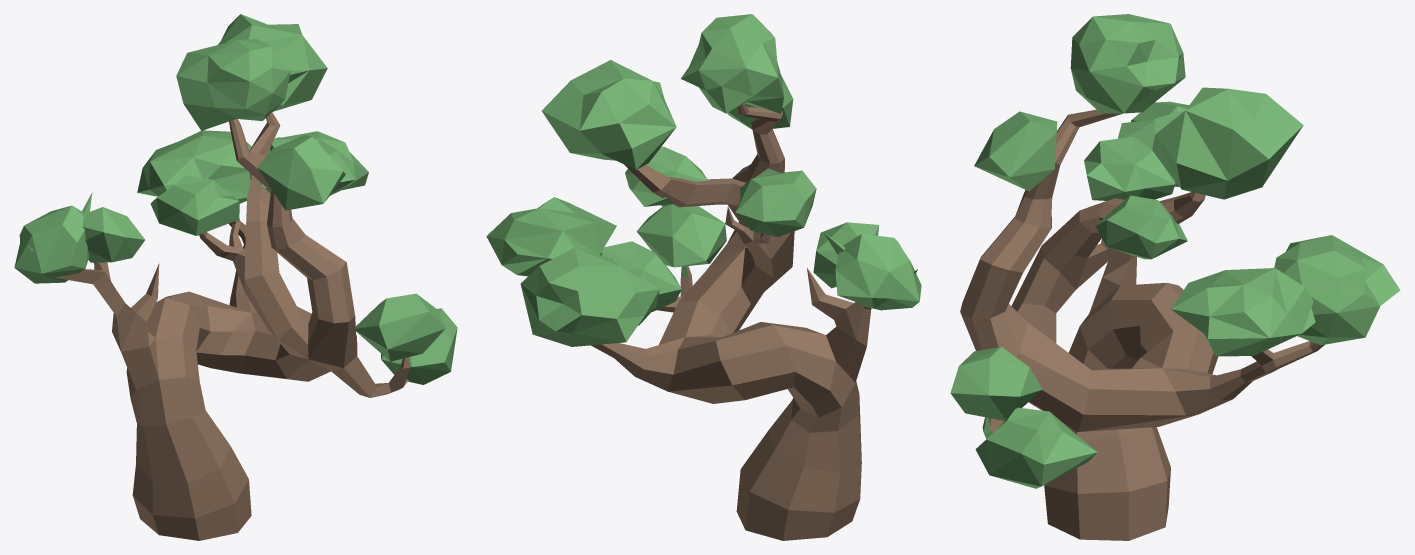
File: swamp_trees2.fbx
3 views of the same model, side by side, from view 1: azimuth 30°, elevation 25°; view 2: azimuth 150°, elevation 25°; view 3: azimuth 270°, elevation 25° (orthographic). The views are drawn at different scales.
Visible parts, largest first — view 1: Cylinder.004; view 2: Cylinder.004; view 3: Cylinder.004.
Part boxes in pixels (left/top/right/bottom): Cylinder.004: left=14, top=14, right=457, bottom=540; Cylinder.004: left=486, top=14, right=921, bottom=540; Cylinder.004: left=950, top=14, right=1400, bottom=540.
Size of the model in its own units: 647 by 752 by 584.
